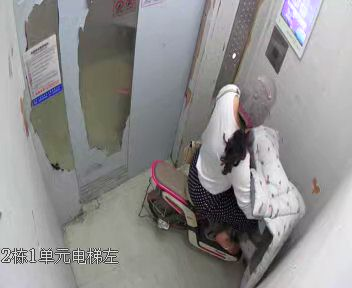Electric-bicycle: (149, 125, 301, 269)
